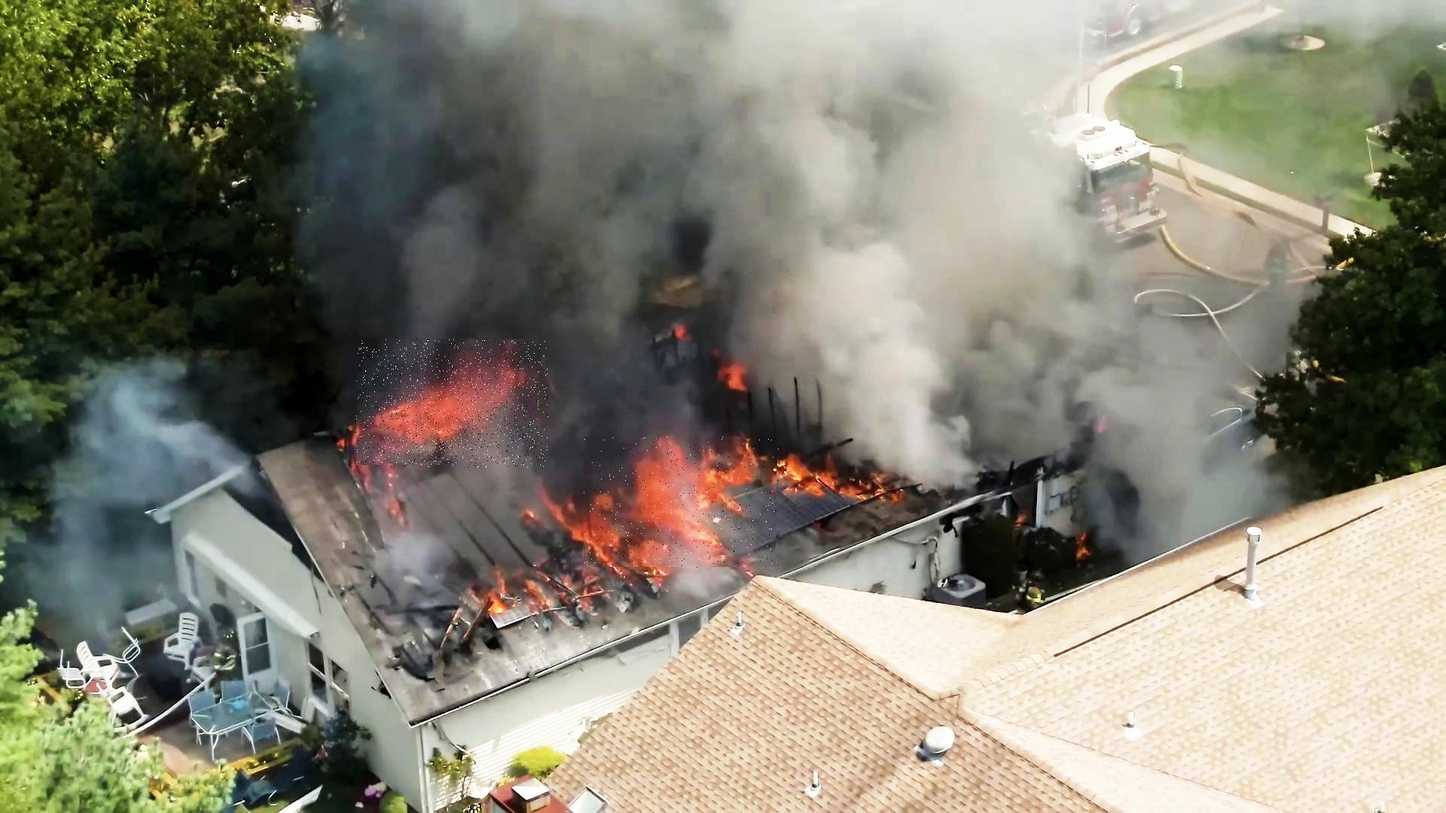fire: (584, 437, 779, 569), (356, 339, 548, 468)
